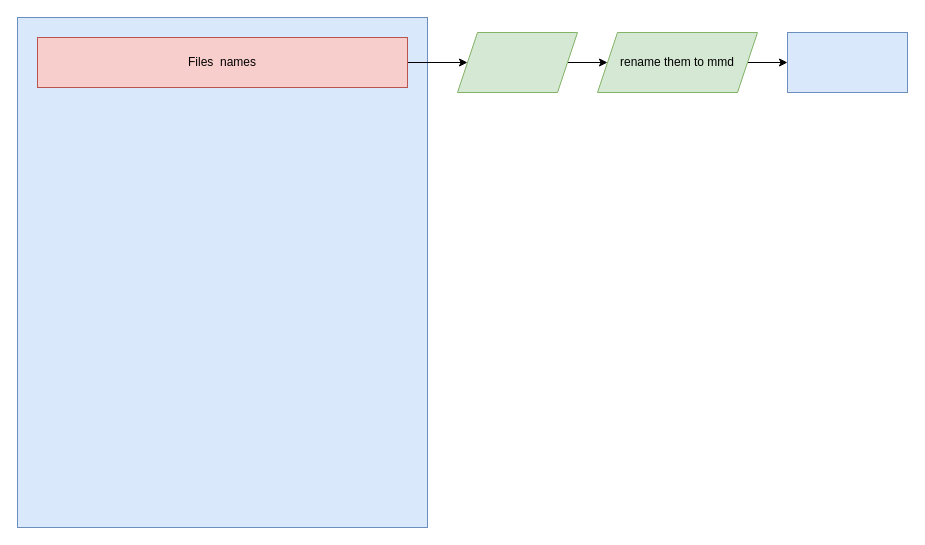
Some shapes in this 925 by 545 pixel diagram are drawn without their labels. The shapes that lost their labels are listed below. From the top down, each one's centre as x and y in pixels, then its label:
the point at 517,62: get files name
the point at 847,62: send it clipbored
